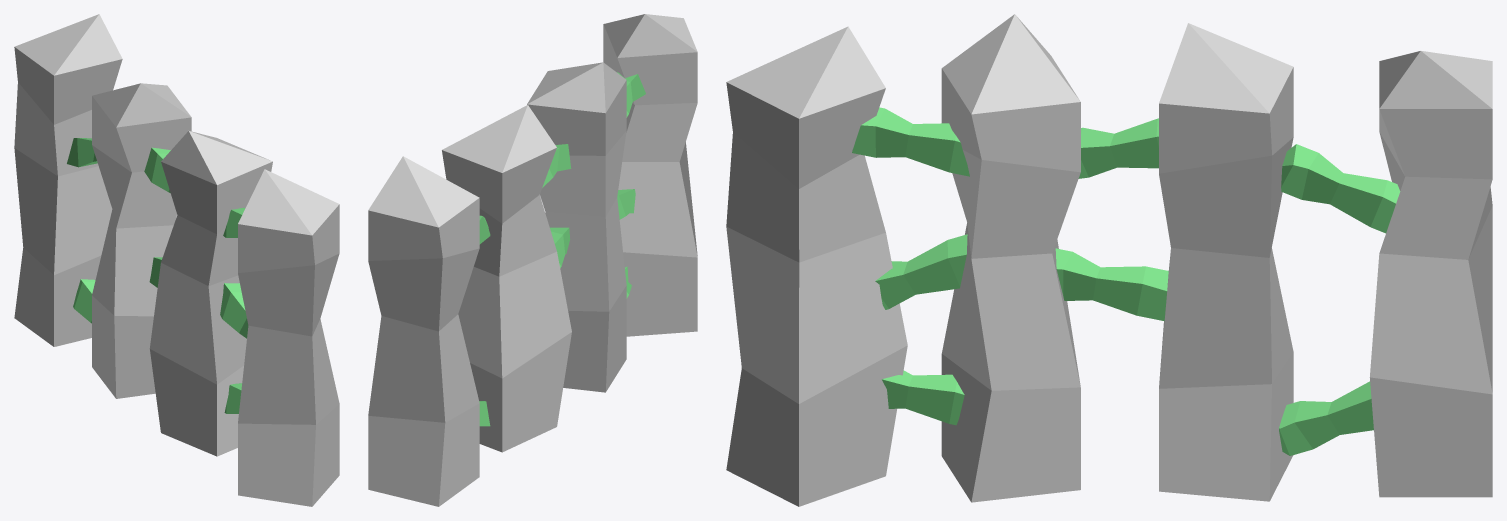
The model's file is wall.fbx.
The picture shows the model from 3 angles, left to right: view 1: azimuth 30°, elevation 25°; view 2: azimuth 150°, elevation 25°; view 3: azimuth 270°, elevation 25°; orthographic projection. The views are drawn at different scales.
Visible parts, largest first — view 1: Cube.003, Cube, Cube.002, Cube.001, Cube.006, Cube.010, Cube.004, Cube.005, Cube.008, Cube.007; view 2: Cube, Cube.001, Cube.003, Cube.002, Cube.010, Cube.007, Cube.009, Cube.006; view 3: Cube.003, Cube.001, Cube.002, Cube, Cube.004, Cube.009, Cube.007, Cube.005, Cube.006, Cube.010, Cube.008.
Part boxes in pixels (box(x1,y1,x2,y2)): Cube.003: box(238, 169, 339, 506); Cube: box(14, 14, 122, 346); Cube.002: box(149, 131, 272, 456); Cube.001: box(92, 83, 191, 398); Cube.006: box(220, 283, 248, 338); Cube.010: box(144, 147, 170, 192); Cube.004: box(67, 138, 97, 167); Cube.005: box(73, 279, 95, 323); Cube.008: box(224, 383, 242, 413); Cube.007: box(223, 207, 245, 237); Cube: box(368, 156, 479, 506); Cube.001: box(442, 105, 571, 452); Cube.003: box(603, 14, 697, 336); Cube.002: box(527, 62, 626, 392); Cube.010: box(542, 144, 571, 187); Cube.007: box(617, 72, 645, 117); Cube.009: box(550, 227, 570, 268); Cube.006: box(617, 189, 635, 219); Cube.003: box(726, 26, 907, 506); Cube.001: box(1159, 23, 1293, 501); Cube.002: box(941, 14, 1080, 502); Cube: box(1369, 51, 1492, 497); Cube.004: box(1281, 144, 1400, 233); Cube.009: box(1055, 248, 1168, 321); Cube.007: box(852, 107, 969, 176); Cube.005: box(1279, 381, 1373, 455); Cube.006: box(875, 234, 967, 309); Cube.010: box(1078, 118, 1158, 178); Cube.008: box(882, 370, 964, 425).
Size of the model in its own units: 285 by 857 by 1352.
